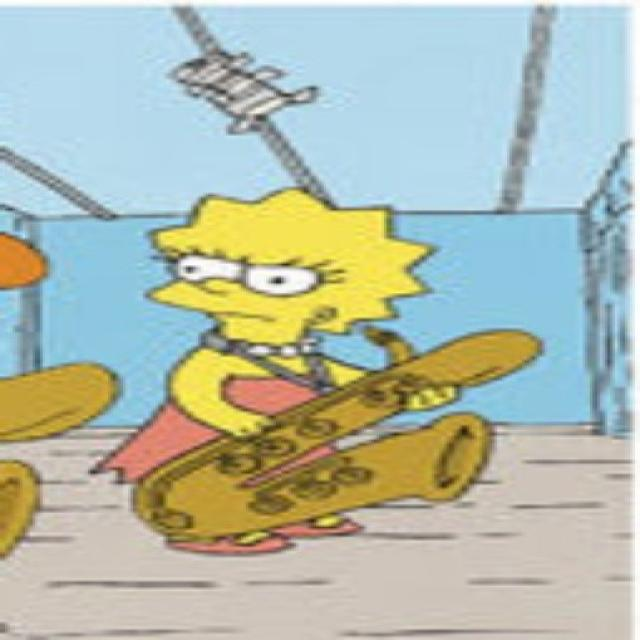Lisa Simpson: (133, 188, 439, 354)
